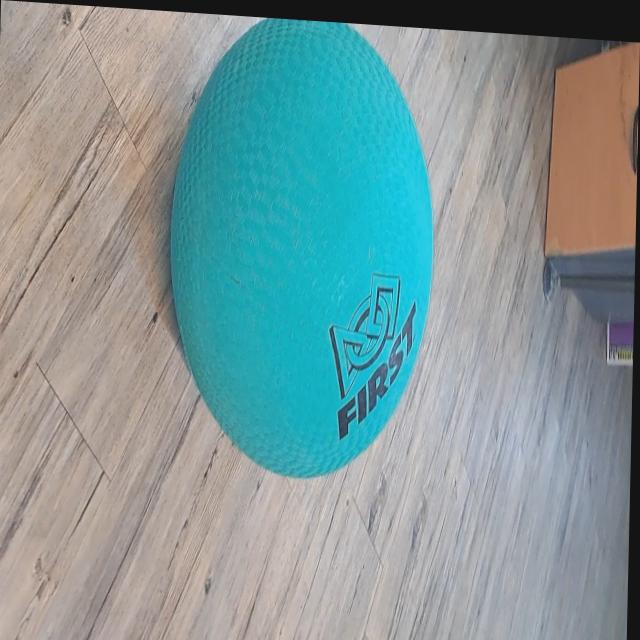ALGAE: (163, 13, 439, 488)
